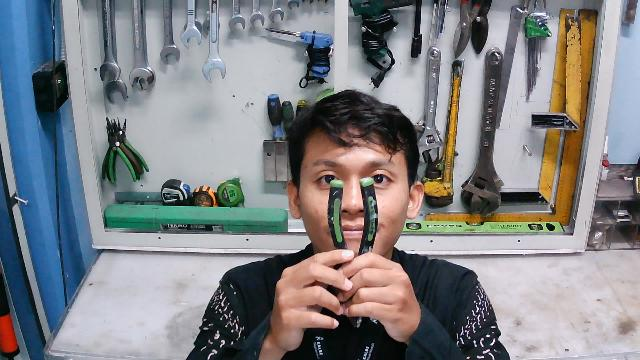tang_kombinasi: (329, 177, 377, 304)
